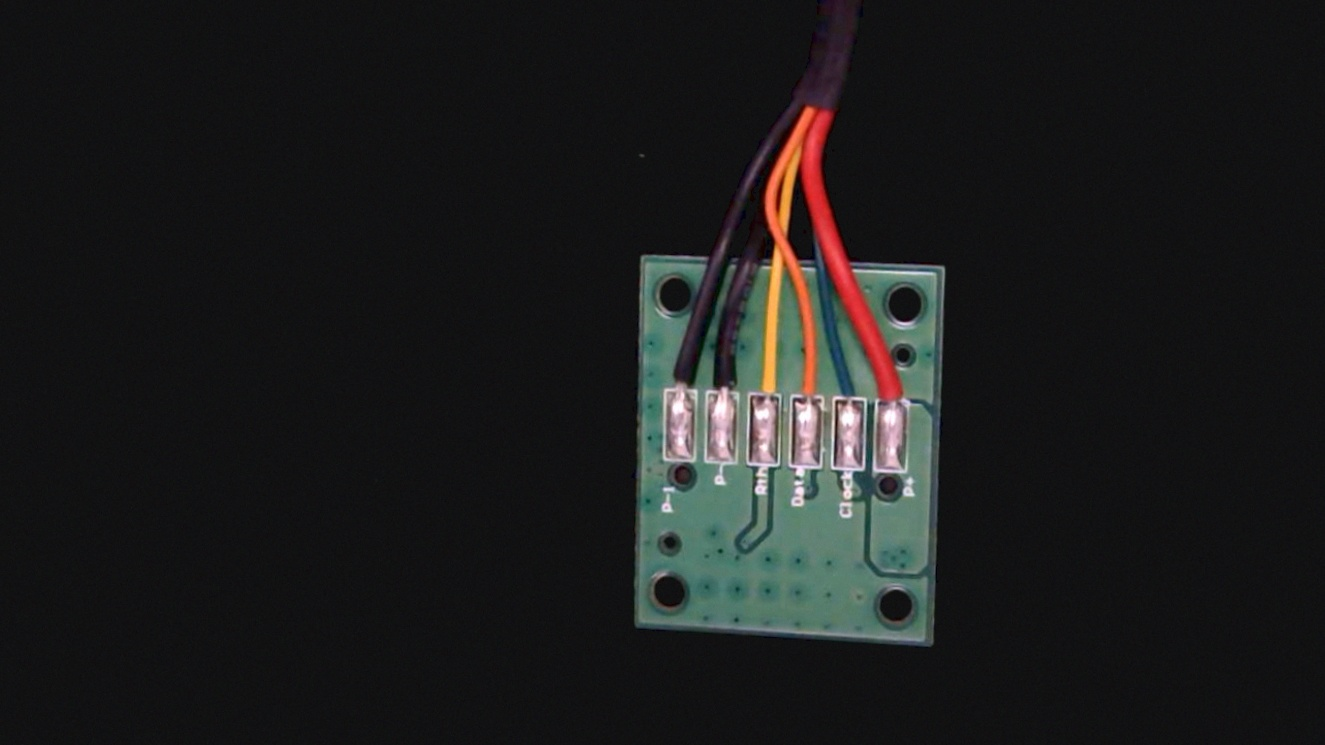Black: (702, 323, 745, 410)
Black1: (657, 334, 698, 413)
Green: (828, 342, 872, 421)
Orange: (787, 330, 829, 415)
Red: (871, 337, 914, 420)
Yellow: (742, 329, 785, 416)
